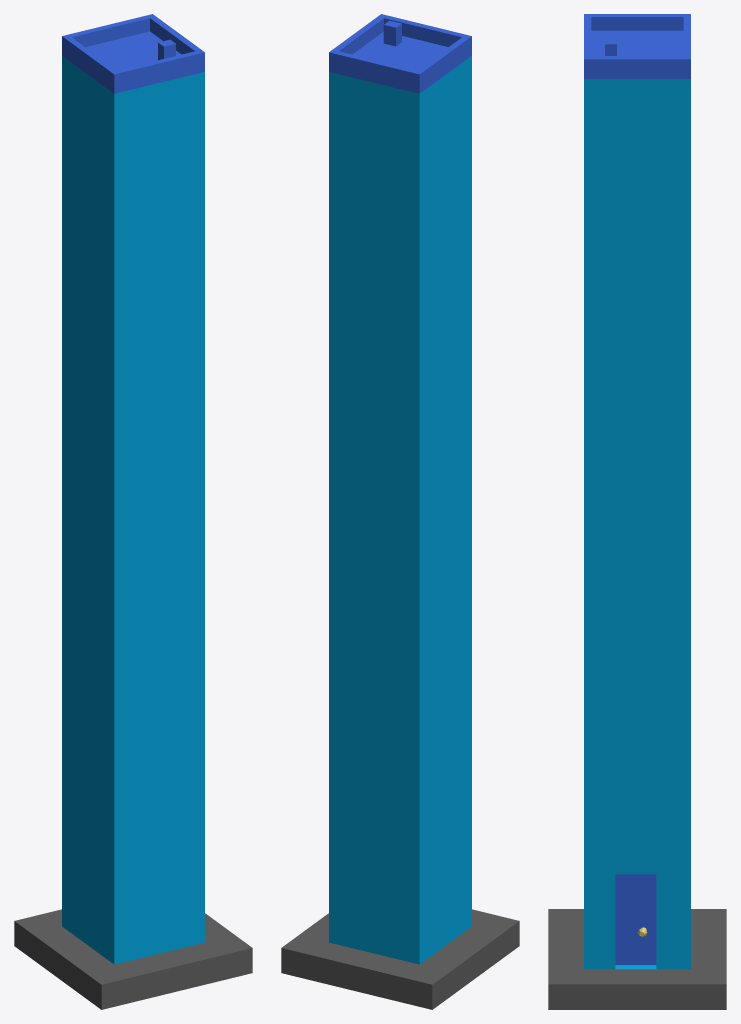
The model's file is Building 4.fbx.
3 views of the same model, side by side, from view 1: azimuth 30°, elevation 25°; view 2: azimuth 150°, elevation 25°; view 3: azimuth 270°, elevation 25° (orthographic). The views are drawn at different scales.
Visible parts, largest first — view 1: Cube; view 2: Cube; view 3: Cube.
Part boxes in pixels (x1,y1,x2,y2): Cube: [14, 14, 252, 1009]; Cube: [281, 14, 519, 1009]; Cube: [548, 14, 726, 1009].
Size of the model in its own units: 333 by 1940 by 333.
